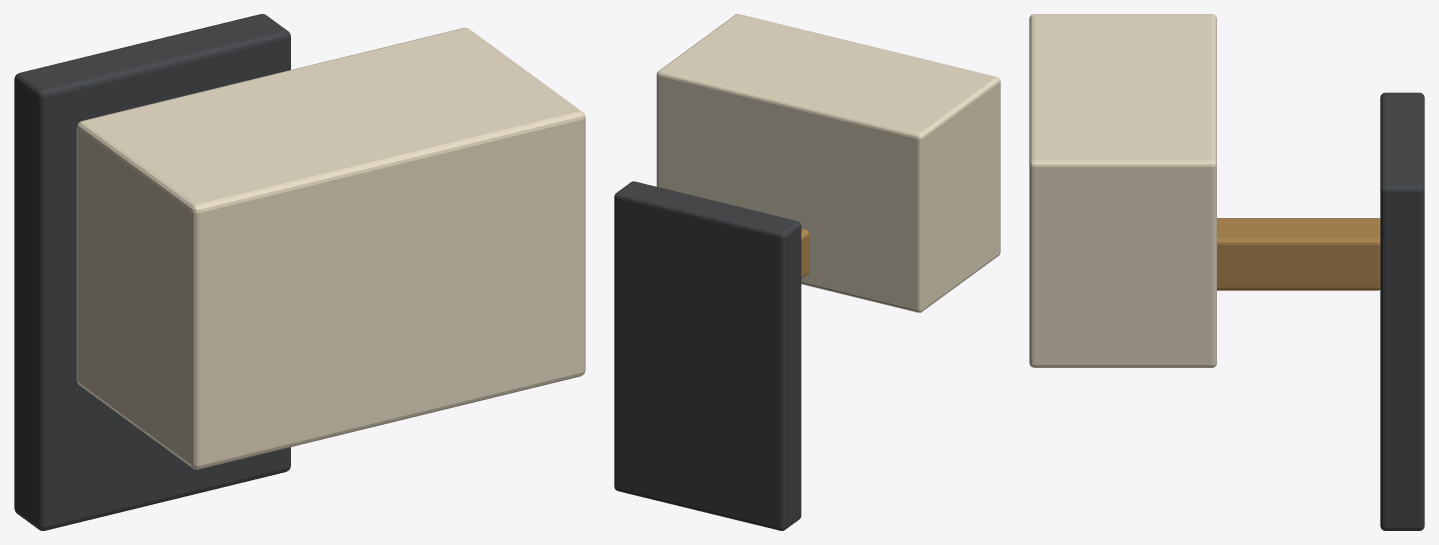
Rendered from minimal-wall-light-01.glb.
The picture shows the model from 3 angles, left to right: view 1: azimuth 30°, elevation 25°; view 2: azimuth 150°, elevation 25°; view 3: azimuth 270°, elevation 25°; orthographic projection. The views are drawn at different scales.
Parts seen in each view (by area): view 1: minimal-wall-light-01; view 2: minimal-wall-light-01; view 3: minimal-wall-light-01.
Part boxes in pixels (<box>): minimal-wall-light-01: <box>14,14,585,530</box>; minimal-wall-light-01: <box>614,14,1000,530</box>; minimal-wall-light-01: <box>1029,14,1424,530</box>.
Size of the model in its own units: 0.28 by 0.345 by 0.3115.
